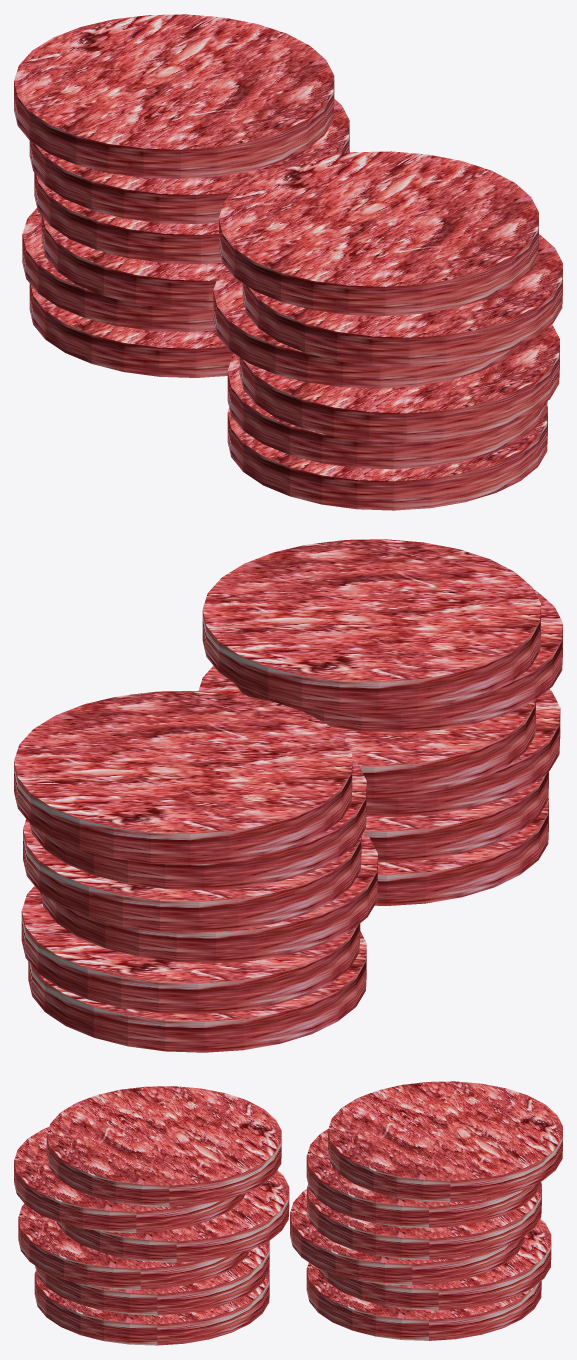
File: meat.fbx
The picture shows the model from 3 angles, top to bottom: view 1: azimuth 30°, elevation 25°; view 2: azimuth 150°, elevation 25°; view 3: azimuth 270°, elevation 25°; orthographic projection. The views are drawn at different scales.
Parts seen in each view (by area): view 1: Cylinder.049; view 2: Cylinder.049; view 3: Cylinder.049.
Boxes of the visible parts, box(x1,y1,x2,y2) form: Cylinder.049: box(14, 14, 562, 510); Cylinder.049: box(14, 539, 562, 1052); Cylinder.049: box(14, 1081, 562, 1345).
Size of the model in its own units: 19.59 by 13.95 by 43.43.
Materials: 1 (1 with a texture image).
